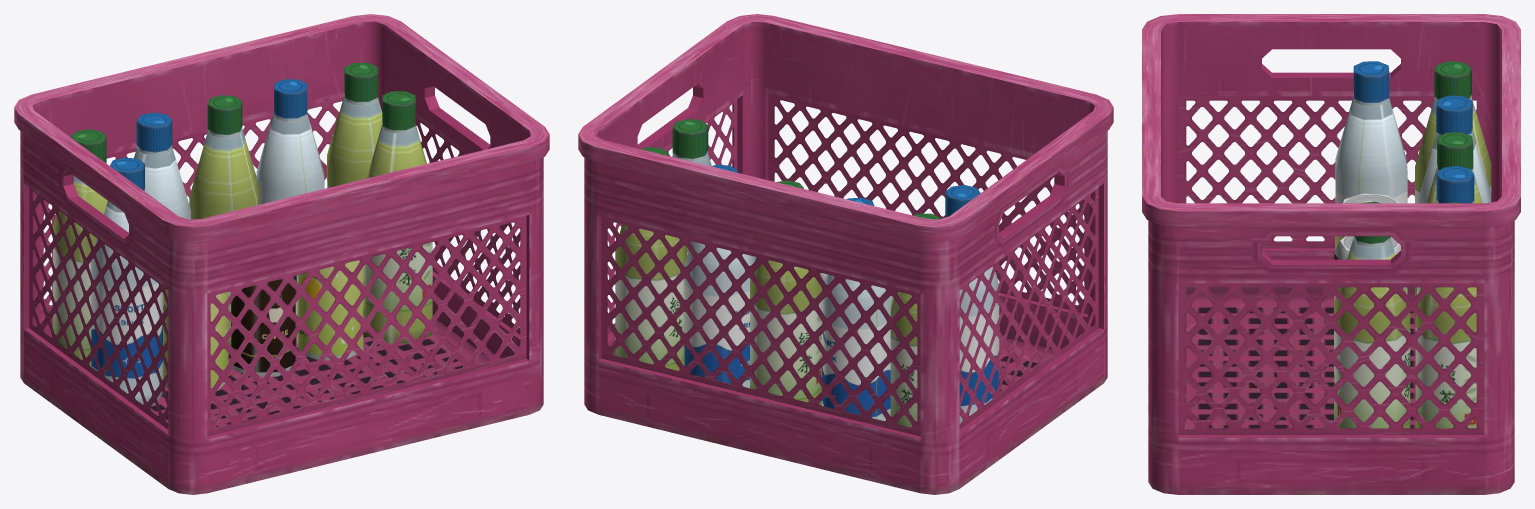
File: milkcrate.glb
3 renders of one model, left to right at view 1: azimuth 30°, elevation 25°; view 2: azimuth 150°, elevation 25°; view 3: azimuth 270°, elevation 25°, orthographic. The views are drawn at different scales.
Parts seen in each view (by area): view 1: MilkCrate, MilkCrateDrinks, MilkCrateLattice; view 2: MilkCrate, MilkCrateLattice, MilkCrateDrinks; view 3: MilkCrate, MilkCrateLattice, MilkCrateDrinks.
Boxes of the visible parts, x1,y1,x2,y2 form: MilkCrate: (14,14,549,494); MilkCrateDrinks: (53,62,432,406); MilkCrateLattice: (29,97,526,436); MilkCrate: (578,14,1113,494); MilkCrateLattice: (601,93,1098,436); MilkCrateDrinks: (615,119,999,427); MilkCrate: (1142,14,1520,494); MilkCrateLattice: (1178,96,1484,434); MilkCrateDrinks: (1334,61,1491,428).
Size of the model in its own units: 0.37 by 0.25 by 0.3.
Materials: 3 (3 with a texture image).
